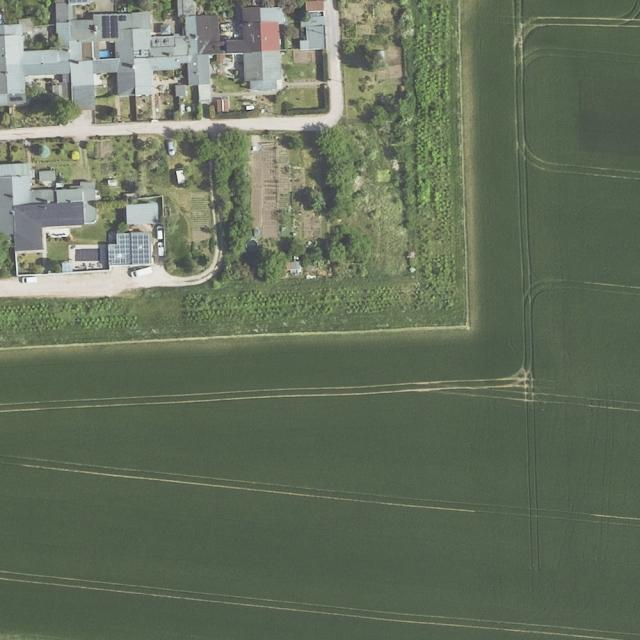PV: (110, 234, 150, 265), (101, 14, 126, 38)
